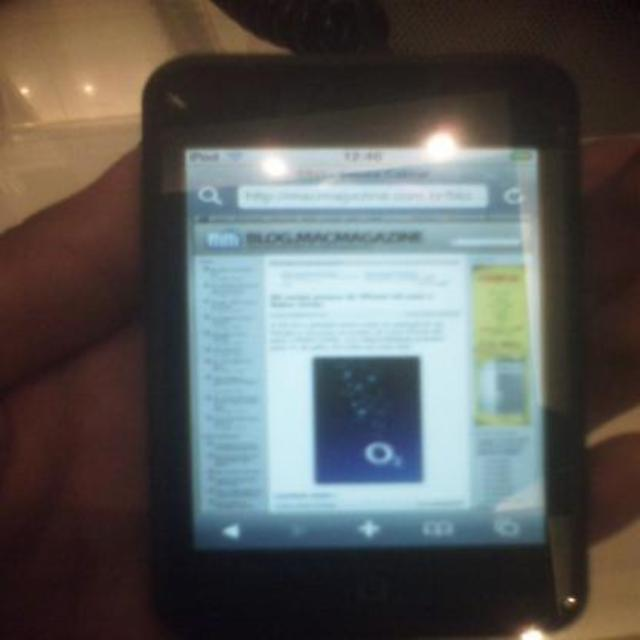Smartphone: (139, 45, 611, 640)
